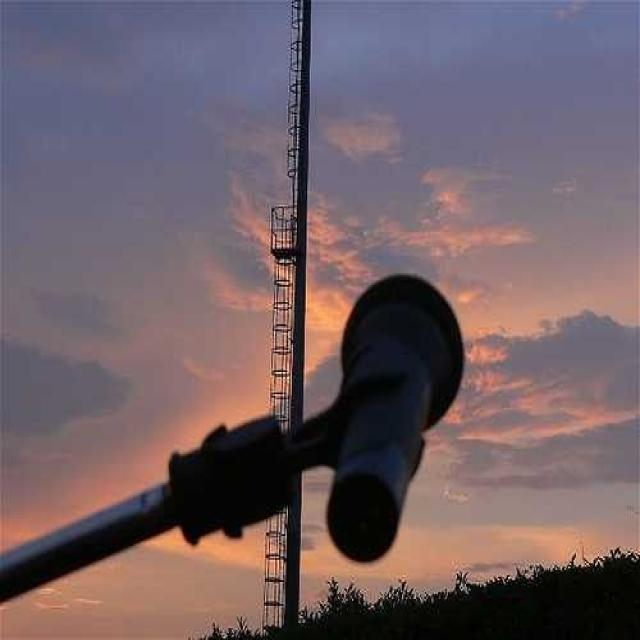microphone: (316, 273, 466, 559)
